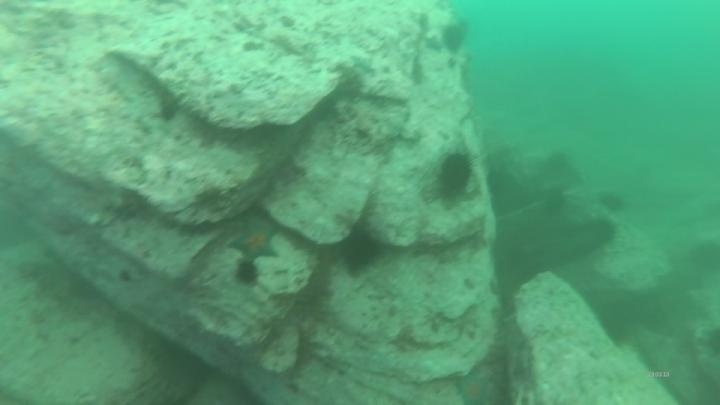echinus: (433, 149, 476, 202), (338, 226, 382, 275), (595, 305, 634, 348), (582, 215, 619, 250), (439, 22, 469, 56), (539, 185, 569, 218), (232, 259, 262, 288), (596, 189, 628, 215)
starfish: (227, 222, 281, 263), (452, 370, 496, 405)
